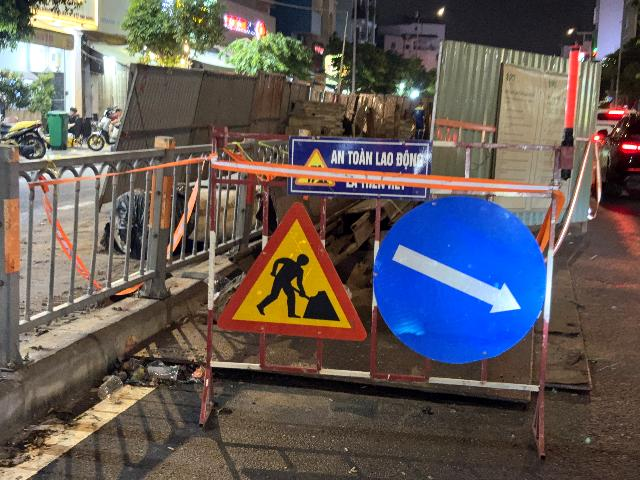cong-truong-dang-thi-cong: (216, 201, 367, 342)
huong-phai-di-vong-chuong-ngai-vat: (373, 195, 545, 364)
